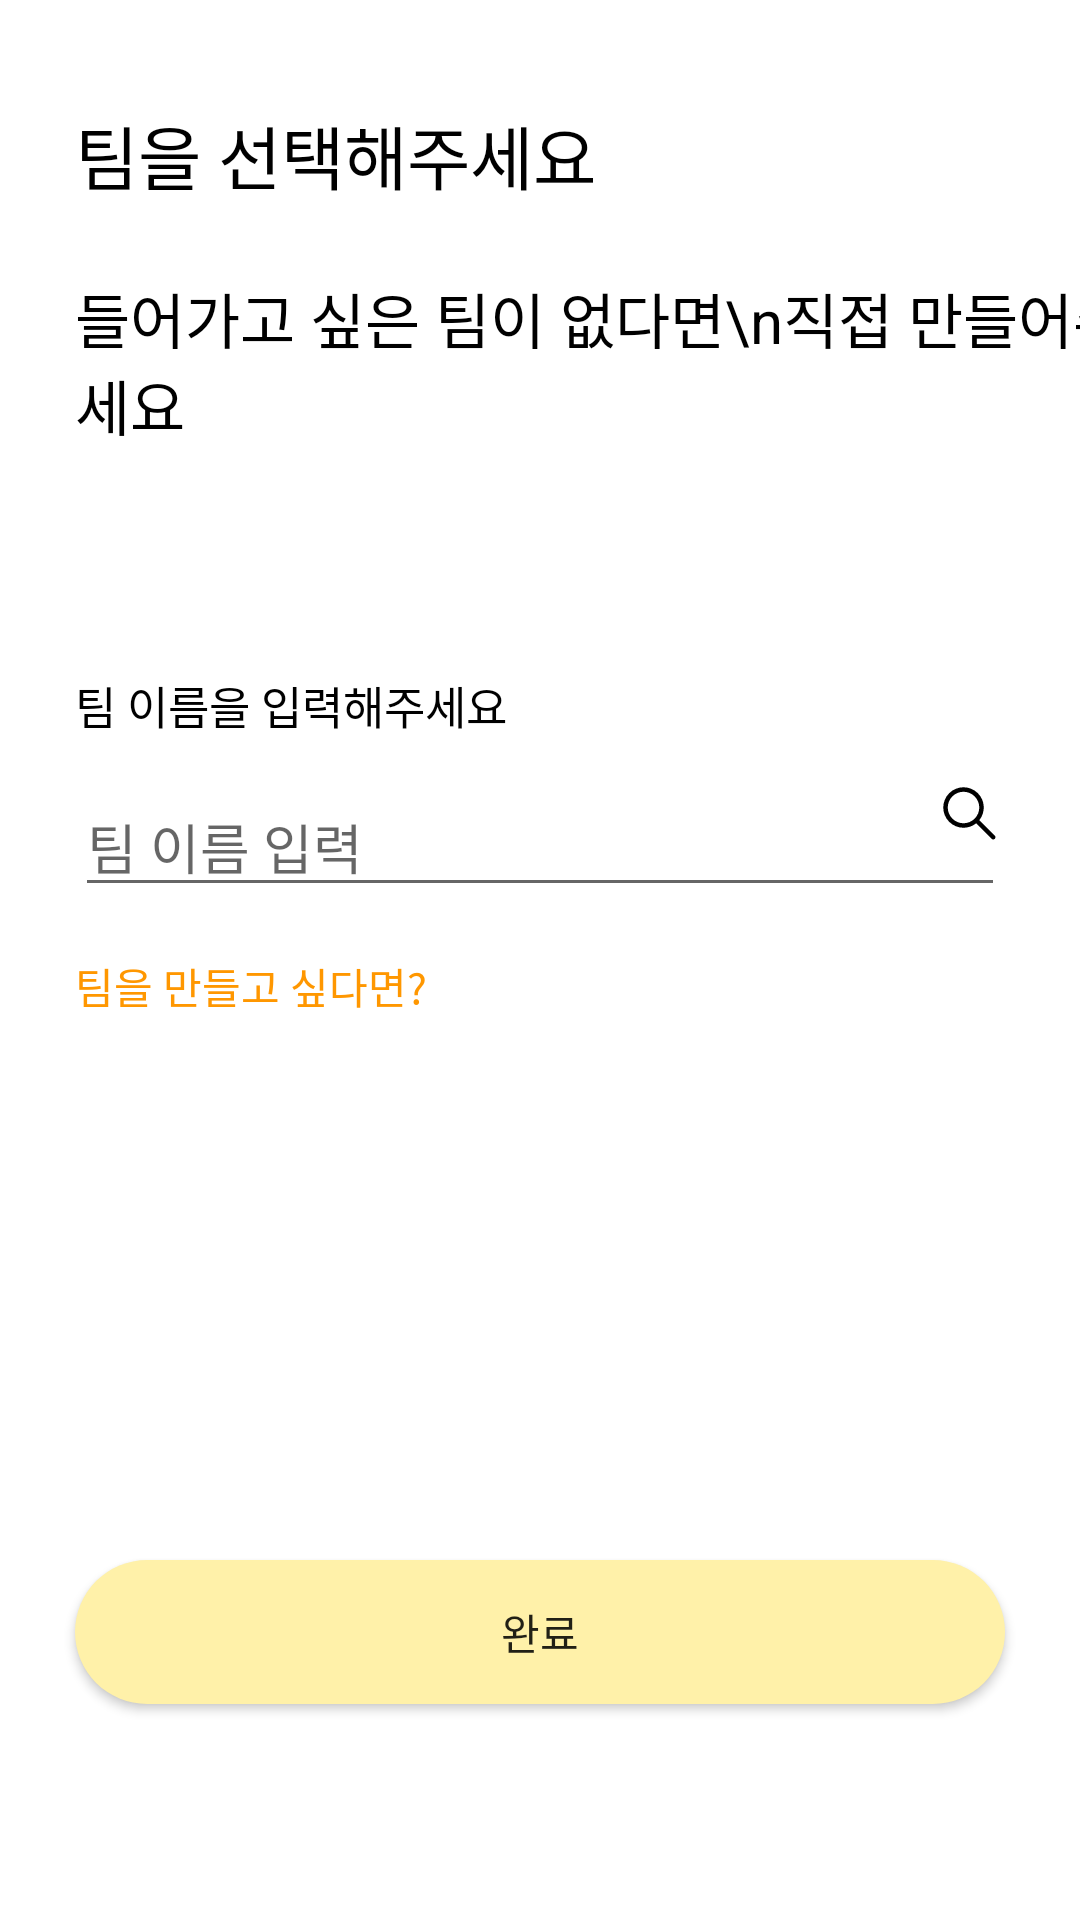

Point at icon controls on the screen. Image size 1080px x 1920px, points as (x=x, y=y).
search: (x=969, y=813)
